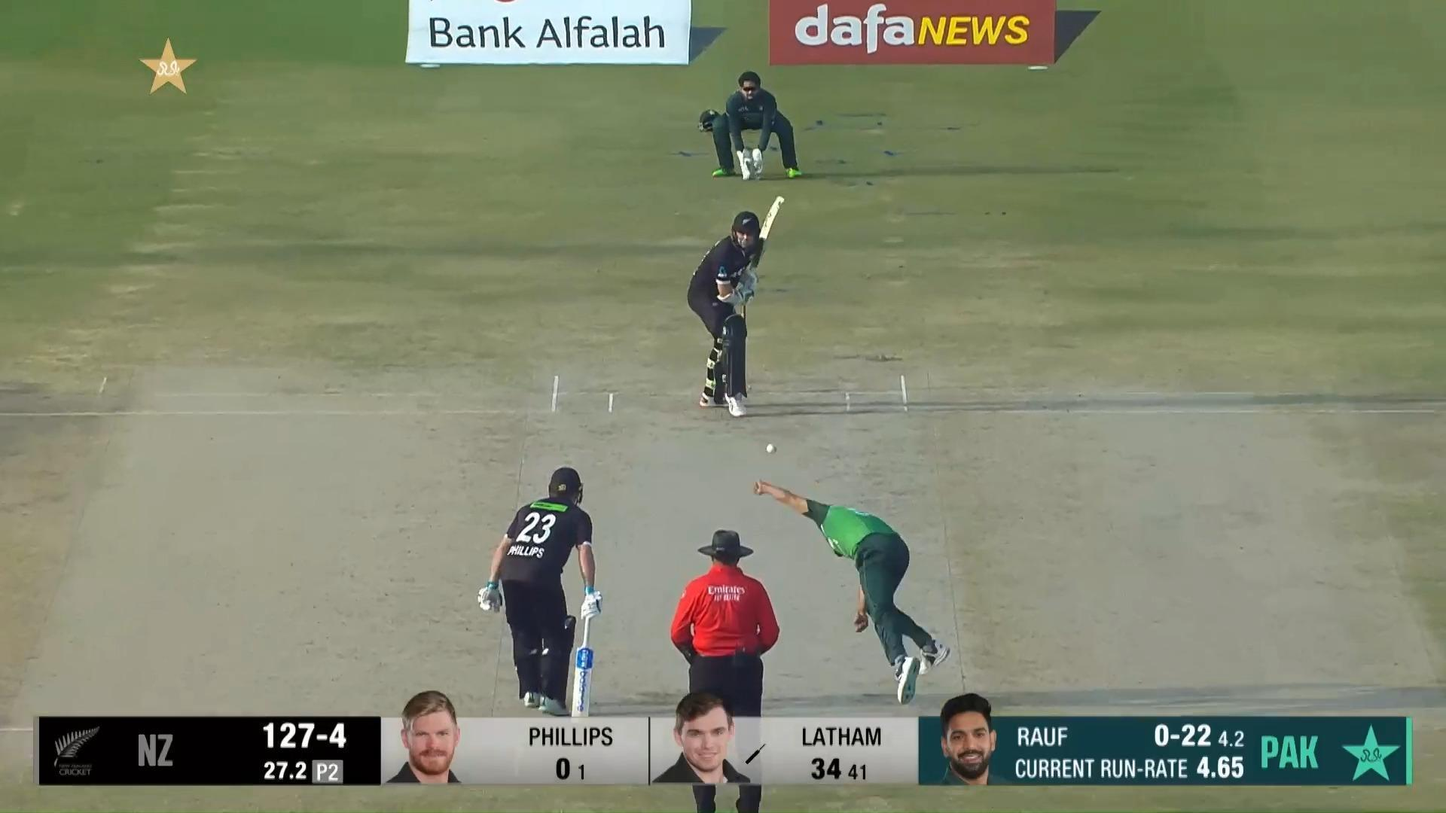BM 1: (686, 193, 784, 418)
BO: (751, 477, 953, 706)
